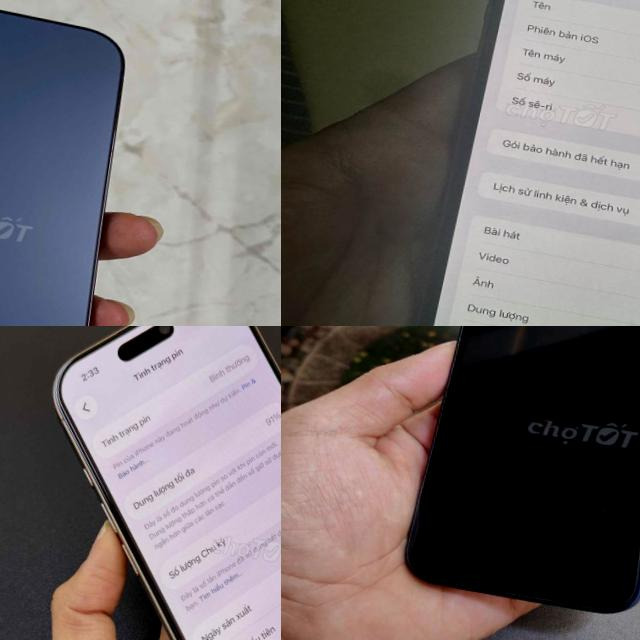gen_12_13: (393, 326, 640, 623), (0, 0, 142, 326)
gen_14: (397, 0, 640, 326)
gen_16: (54, 326, 281, 640)
